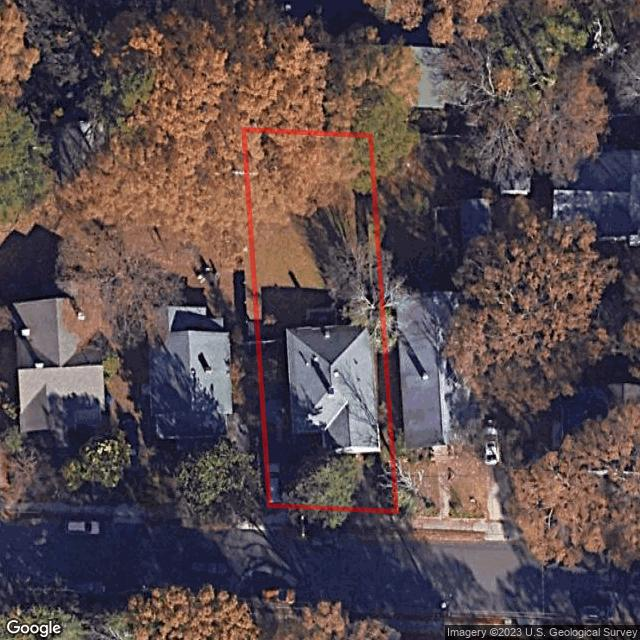Driveway: (266, 399, 288, 502)
Extra Sidewalk: (268, 509, 397, 530)
House: (287, 324, 382, 455)
